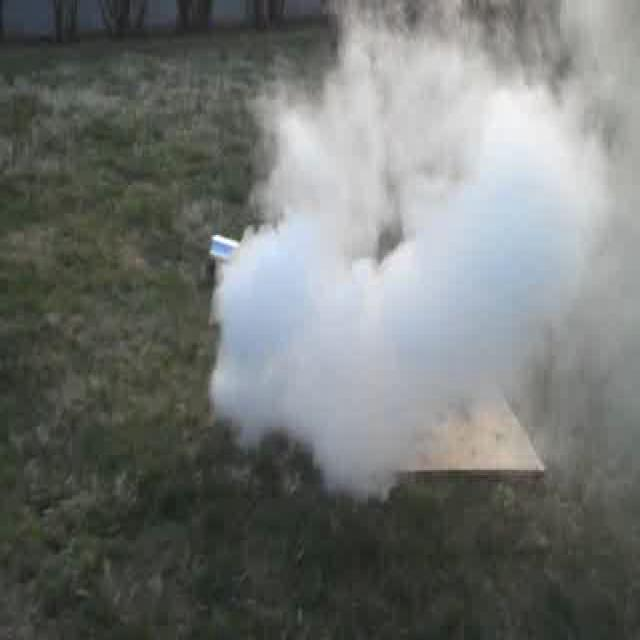Smoke: (225, 41, 595, 476)
